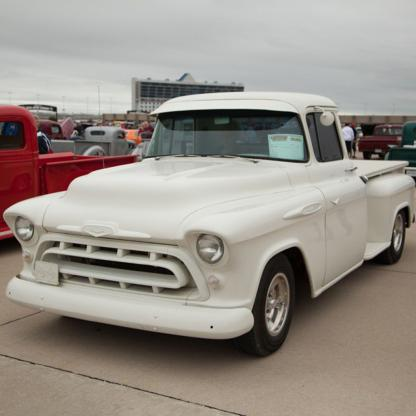Truck: (0, 92, 415, 356)
